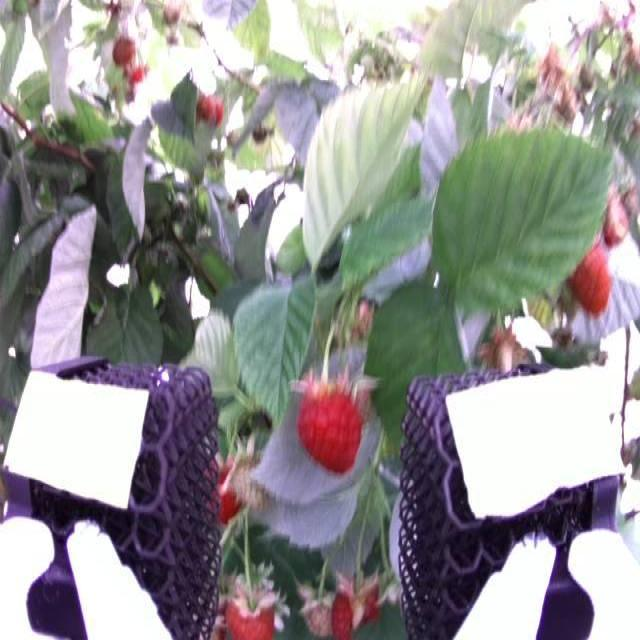Riped berries: (299, 376, 366, 473), (566, 240, 614, 316), (330, 576, 384, 640), (226, 582, 283, 640), (213, 459, 247, 519)
